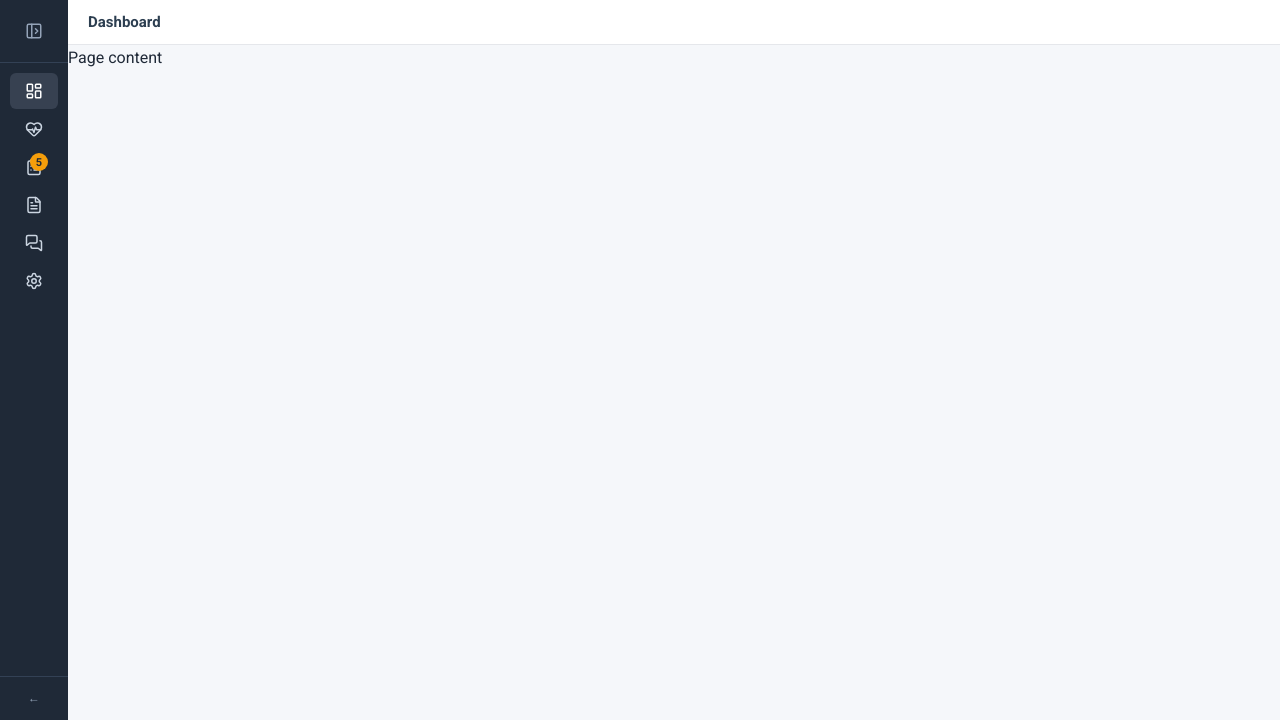
grouped sidebar navigation › keeps aggregate counts in the icon rail and opens the chosen group when its icon is clicked
Check: the button named "Expand sidebar" is shown, box [19,16,49,46]
Click the button "5": [34, 167] box [10,149,58,185]
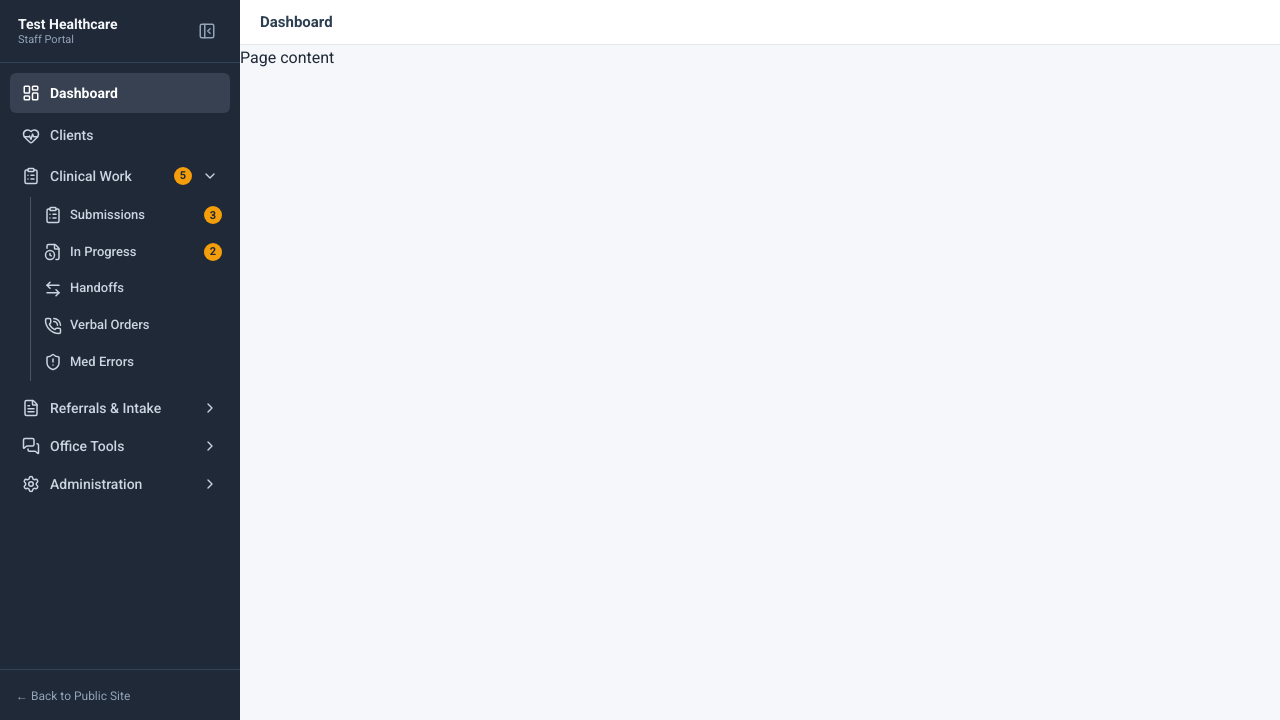
Check: the button named "Collapse sidebar" is shown, box [192,16,222,46]
Check: the link "Submissions 3" is shown, box [44,206,222,224]
